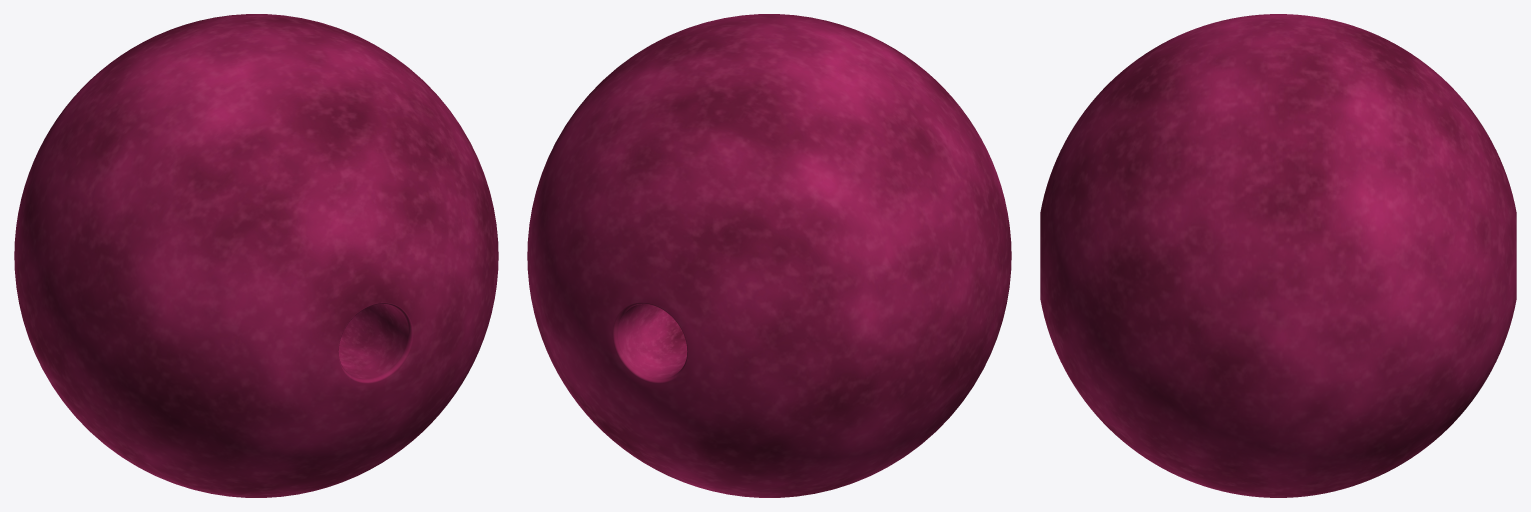
The model's file is ruby-6mm.glb.
3 views of the same model, side by side, from view 1: azimuth 30°, elevation 25°; view 2: azimuth 150°, elevation 25°; view 3: azimuth 270°, elevation 25° (orthographic).
Parts seen in each view (by area): view 1: ruby.001; view 2: ruby.001; view 3: ruby.001.
Part boxes in pixels (<box>): ruby.001: <box>14,14,498,497</box>; ruby.001: <box>527,14,1011,497</box>; ruby.001: <box>1040,14,1516,497</box>.
Size of the model in its own units: 0.006 by 0.006 by 0.0059.
2 materials, 1 textured.
